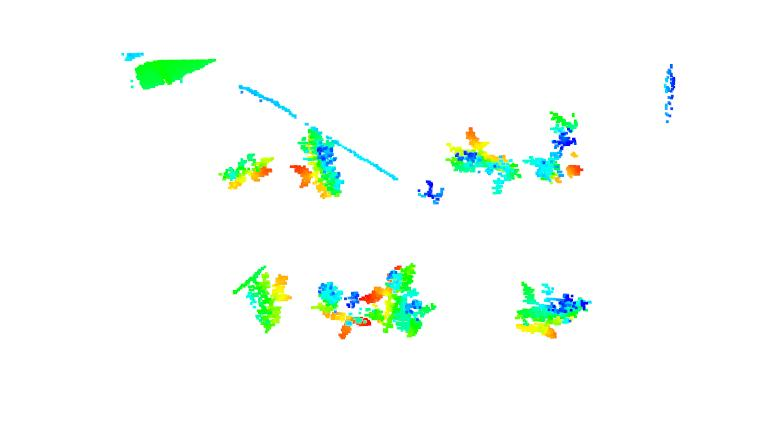chickpea: (357, 263, 436, 339), (444, 126, 524, 195), (516, 282, 592, 340), (288, 125, 346, 201), (525, 112, 584, 183), (313, 281, 372, 340), (246, 269, 292, 336), (220, 152, 273, 192)
